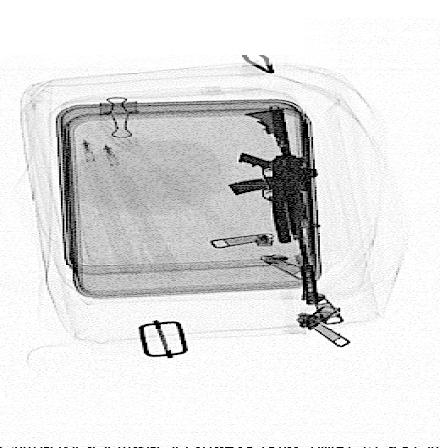Gun: (227, 107, 319, 305)
